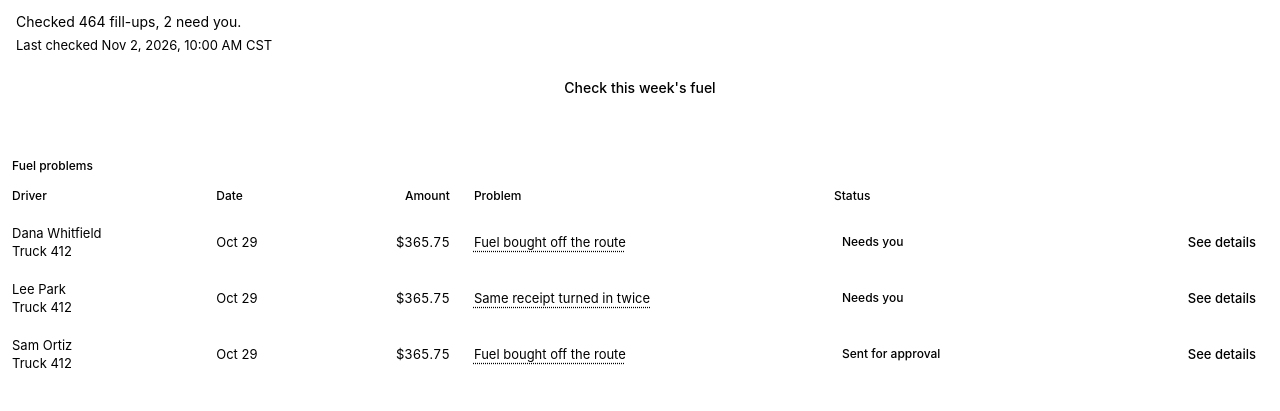
Test: FuelChecks › says the outcome is not known when the answer is lost
The image size is (1280, 411).
Click the button "Check this week's fuel": [640, 88] box [16, 70, 1264, 106]
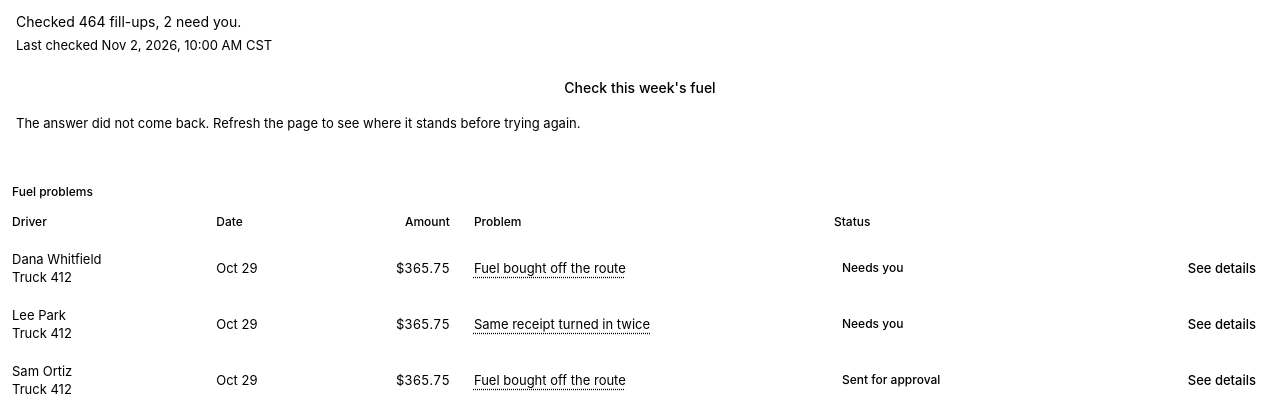
Result: the text "The answer did not come back. Refresh the page to see where it stands before trying again." is shown at [16, 115, 580, 131]
